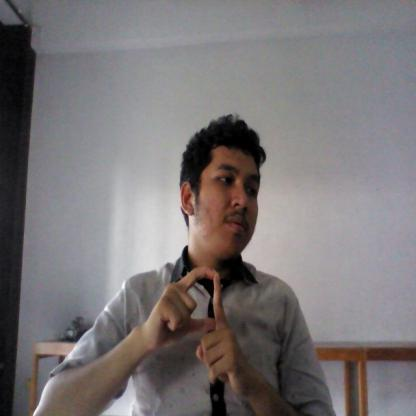D: (141, 261, 249, 391)
